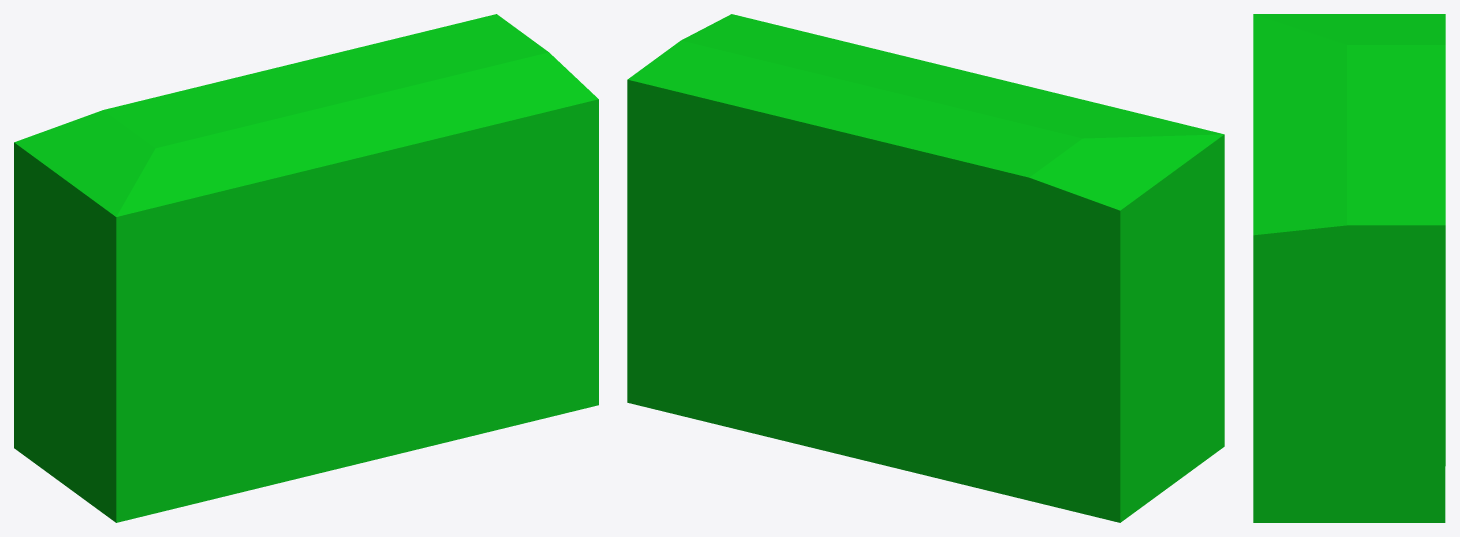
3 views of the same model, side by side, from view 1: azimuth 30°, elevation 25°; view 2: azimuth 150°, elevation 25°; view 3: azimuth 270°, elevation 25° (orthographic). The views are drawn at different scales.
Size of the model in its own units: 1.35 by 0.8487 by 0.4965.
